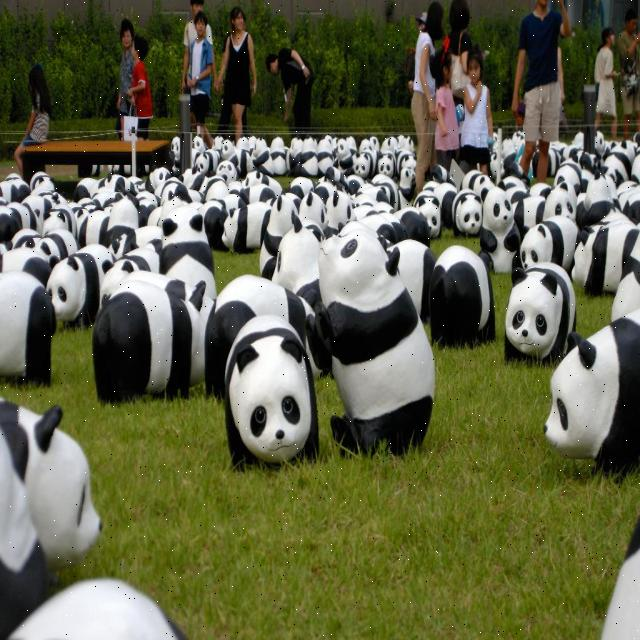panda: (0, 128, 640, 410), (316, 216, 436, 466), (0, 398, 105, 639), (540, 306, 640, 482), (220, 316, 322, 468), (8, 572, 187, 640), (502, 256, 580, 372)
